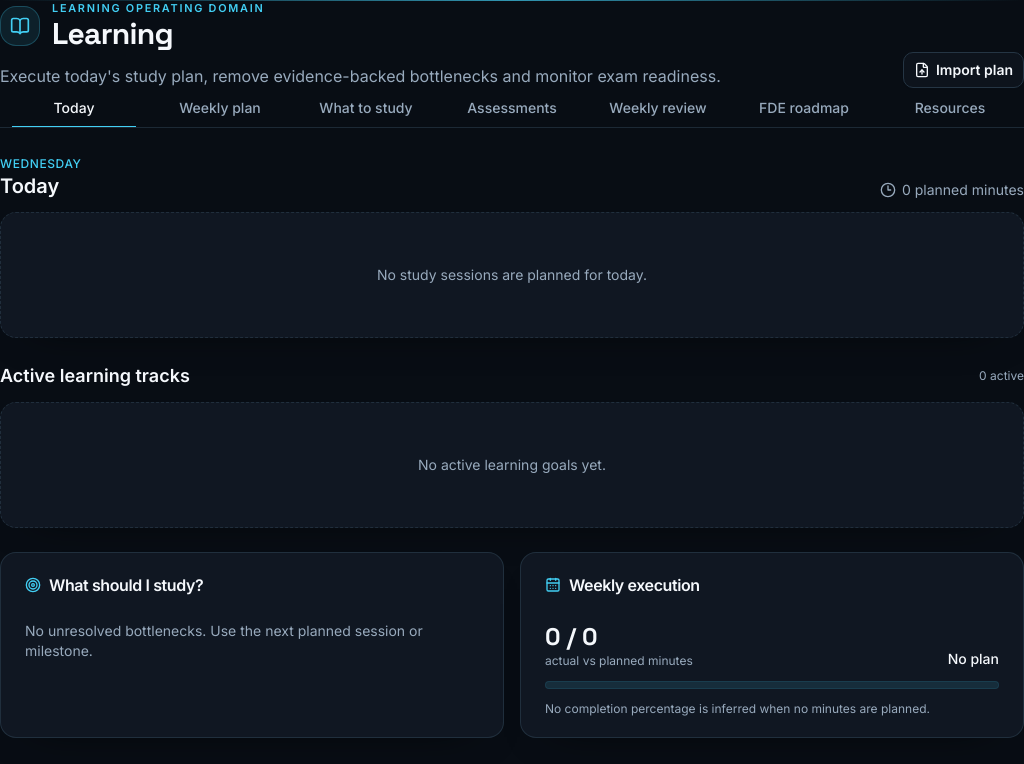
Test: Learning skill refresh › uses refetched server roadmap counts after a confirmed skill create
Expected: the text "No study sessions are planned for today." is shown, 377,266 -> 647,283
Press the mouse on the tab "Resources" at (950, 108), box 879,92 -> 1021,124
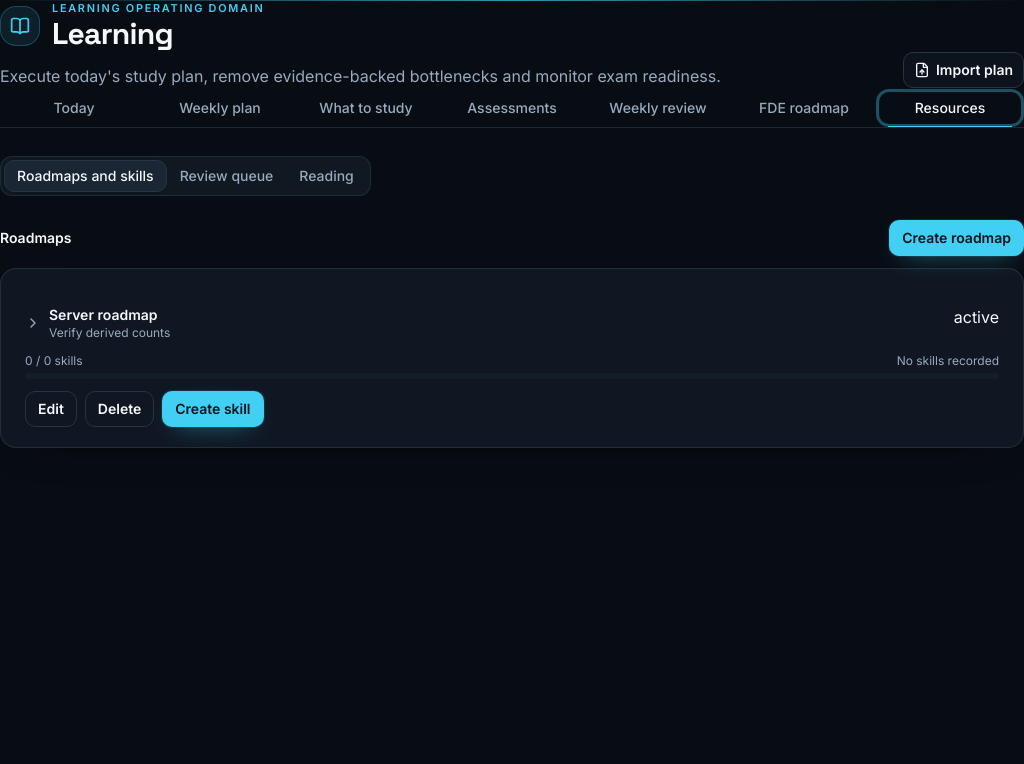
Expected: the text "0 / 0 skills" is shown, 25,353 -> 83,369
Click the button with aria-label "Create skill for Server roadmap".
click(213, 409)  # box 162,391 -> 264,427
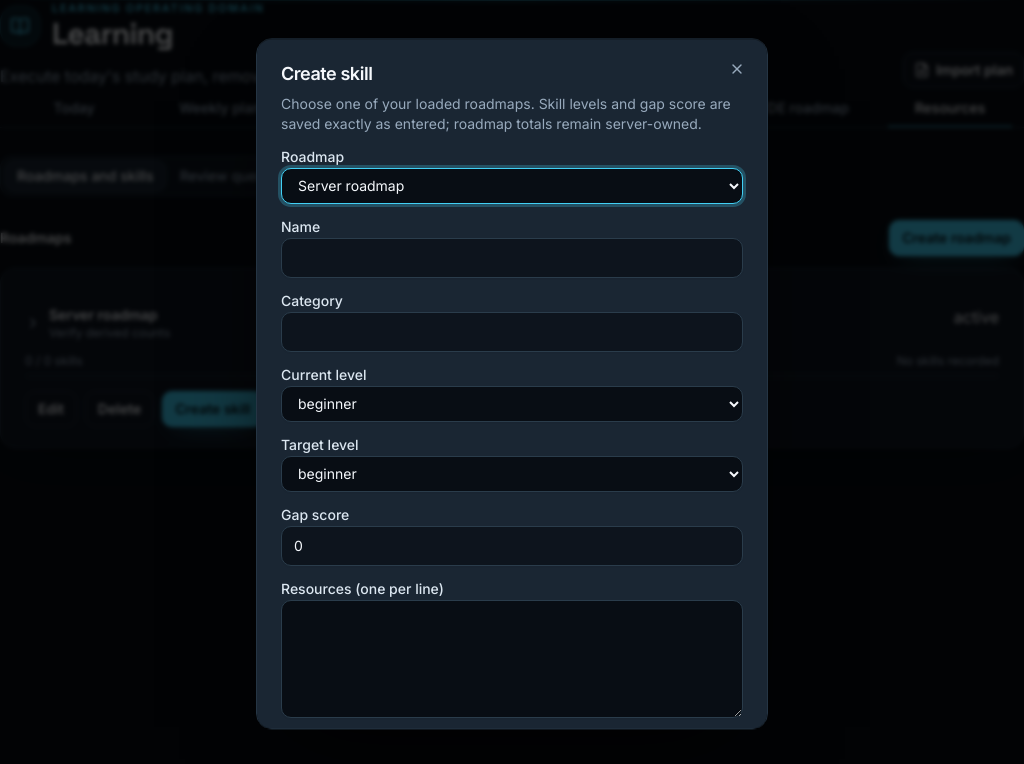
Type "TypeScript" into the field labelled "Name".
click(512, 258); type("TypeScript")  # box 281,238 -> 743,278
Type "Engineering" into the field labelled "Category".
click(512, 332); type("Engineering")  # box 281,312 -> 743,352
Select "advanced" in the dropdown labelled "Current level" at (512, 404), box 281,386 -> 743,422
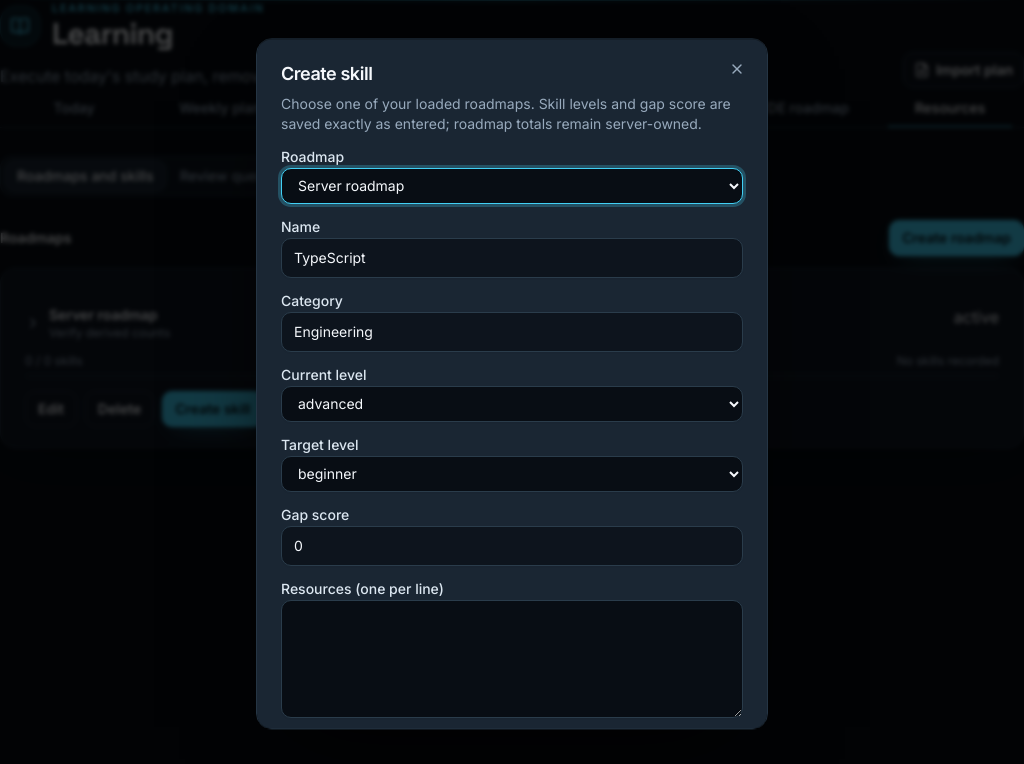
Select "advanced" in the dropdown labelled "Target level" at (512, 474), box 281,456 -> 743,492
(page scrolled)
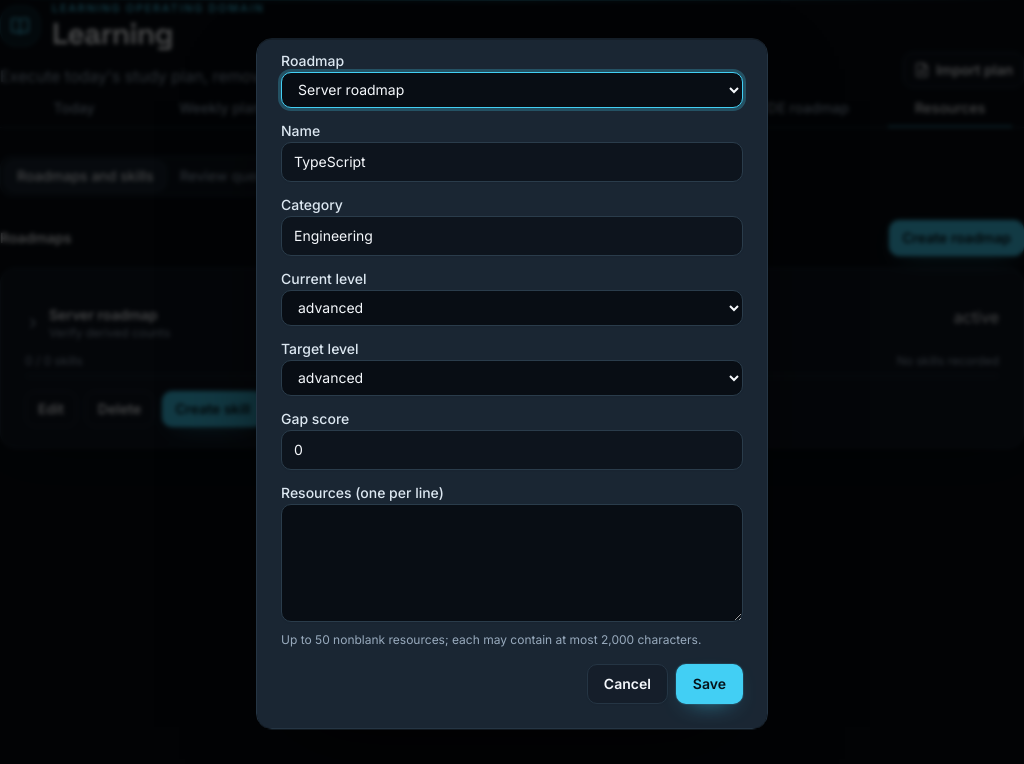
Click the button "Save".
click(709, 684)  # box 676,664 -> 743,704
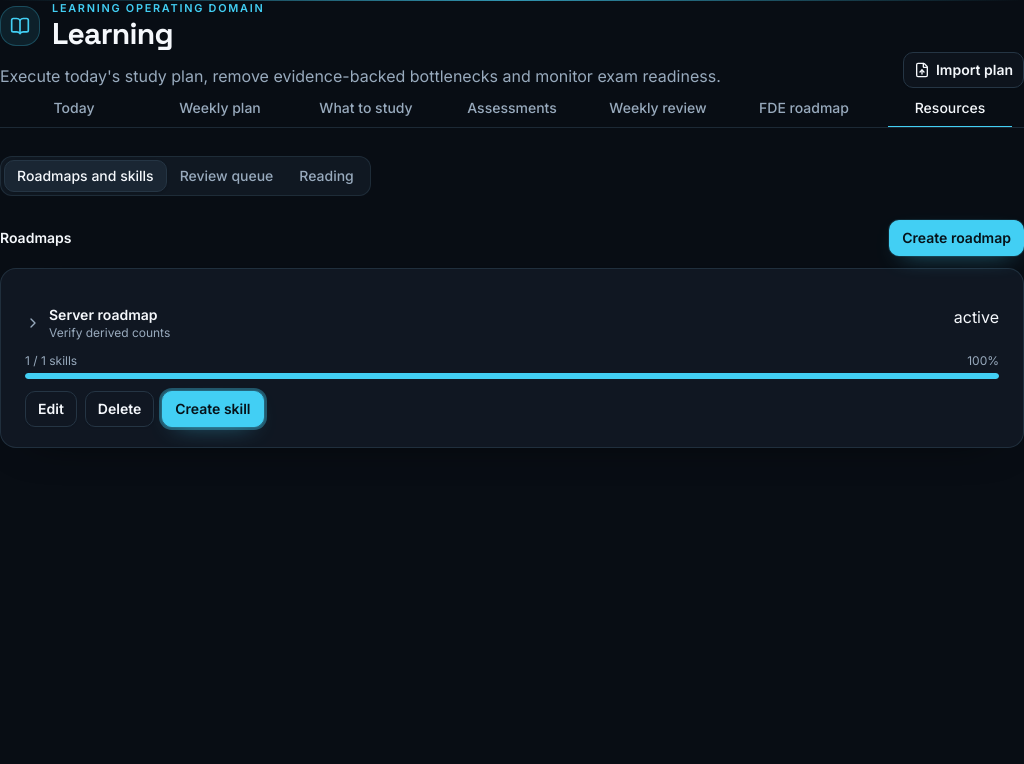
Expected: the text "1 / 1 skills" is shown, 25,353 -> 77,369
Click the button "Server roadmap Verify derived counts".
click(103, 315)  # box 25,305 -> 942,341
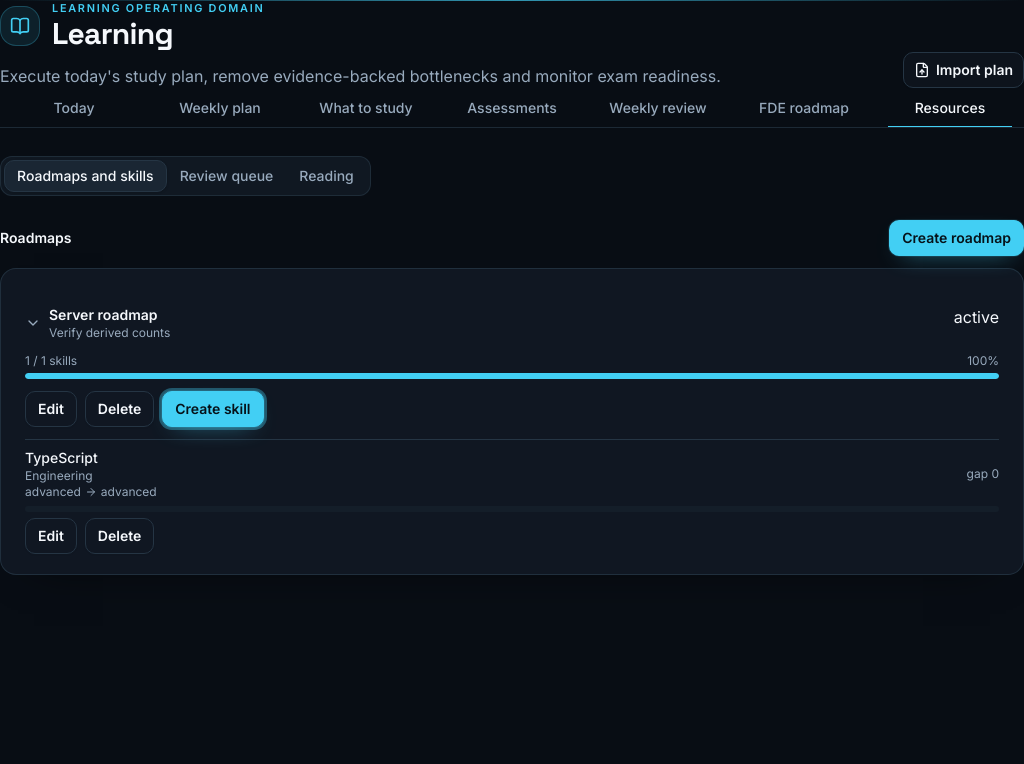
Expected: the text "TypeScript" is shown, 25,449 -> 98,466
